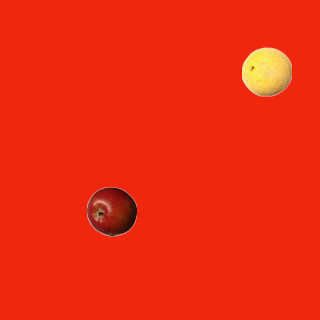Apple Braeburn: (86, 186, 136, 236)
Cantaloupe 1: (241, 46, 291, 96)
